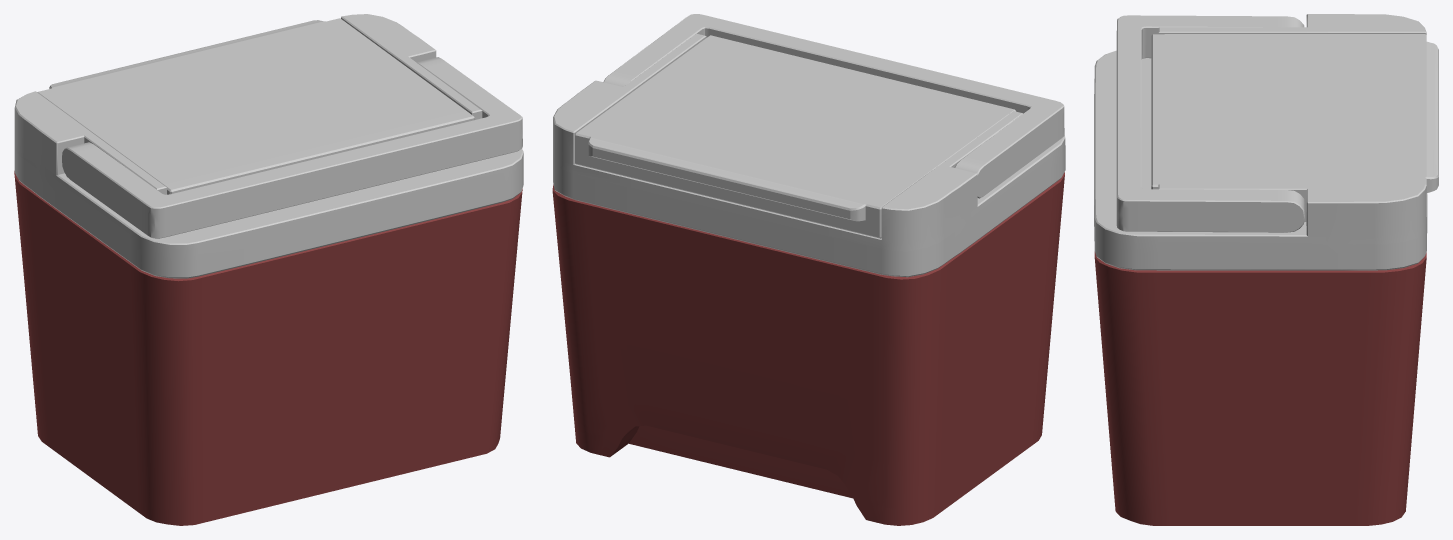
Rendered from cooler_small.fbx.
3 renders of one model, left to right at view 1: azimuth 30°, elevation 25°; view 2: azimuth 150°, elevation 25°; view 3: azimuth 270°, elevation 25°, orthographic.
Parts seen in each view (by area): view 1: pCube16, pCube19, pCube17, pCube18; view 2: pCube16, pCube19, pCube17, pCube18; view 3: pCube16, pCube19, pCube17, pCube18.
Boxes of the visible parts, bbox=[...] form: pCube16: bbox=[14, 171, 522, 525]; pCube19: bbox=[37, 18, 474, 194]; pCube17: bbox=[14, 14, 523, 278]; pCube18: bbox=[62, 57, 522, 238]; pCube16: bbox=[552, 172, 1064, 525]; pCube19: bbox=[575, 35, 1015, 238]; pCube17: bbox=[553, 33, 1065, 277]; pCube18: bbox=[603, 14, 1064, 198]; pCube16: bbox=[1094, 251, 1426, 525]; pCube19: bbox=[1151, 34, 1438, 192]; pCube17: bbox=[1094, 14, 1427, 270]; pCube18: bbox=[1116, 15, 1304, 232].
Bounding box in the file's own units: 5.89 × 4.8 × 4.53.
